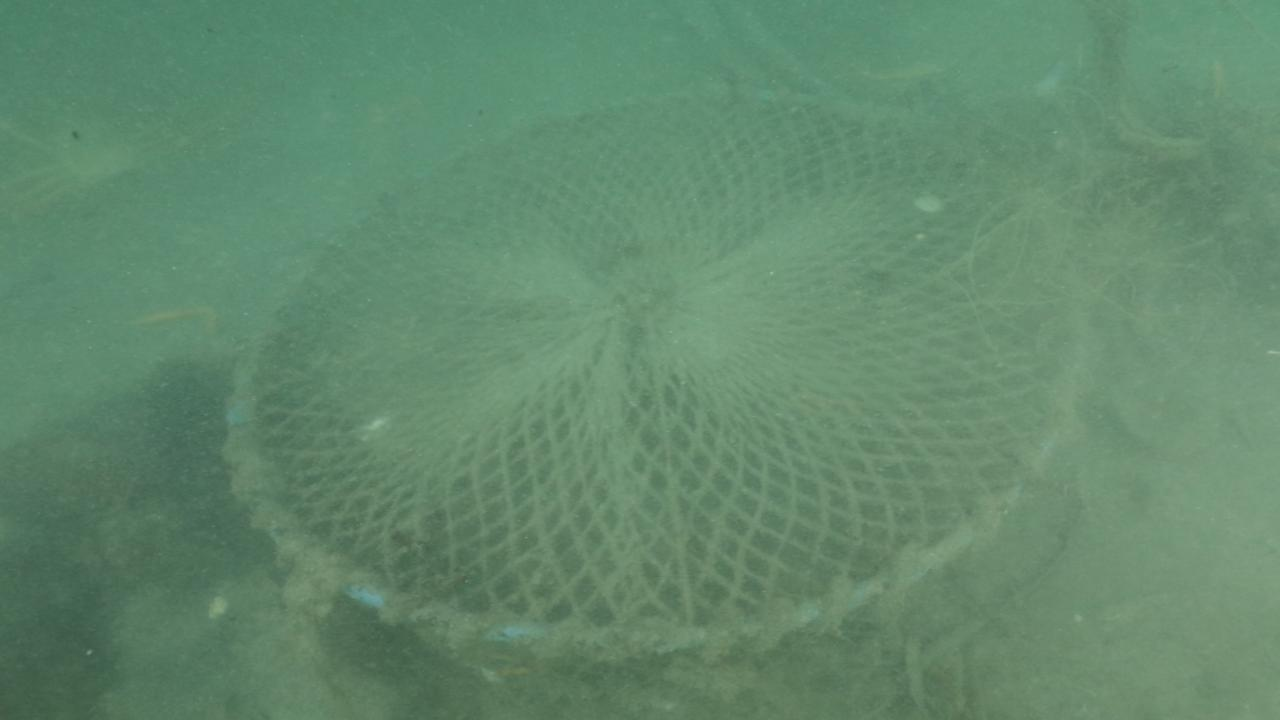circular fish trap: (215, 74, 1100, 667)
